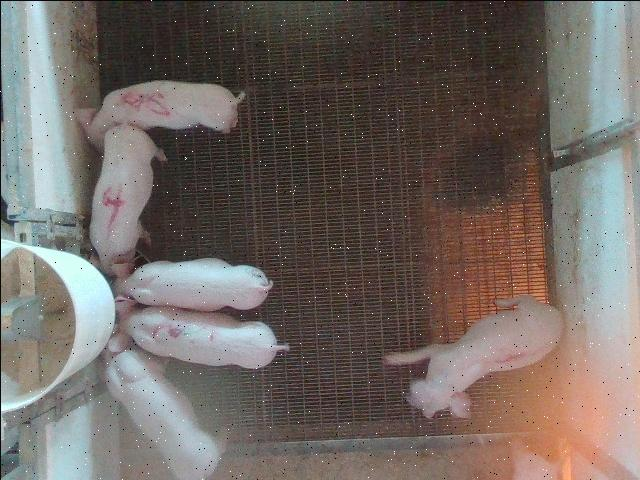pig-3: (382, 295, 562, 417), (120, 305, 289, 367)
pig-4: (89, 122, 164, 279)
pig-5: (76, 80, 244, 146)
